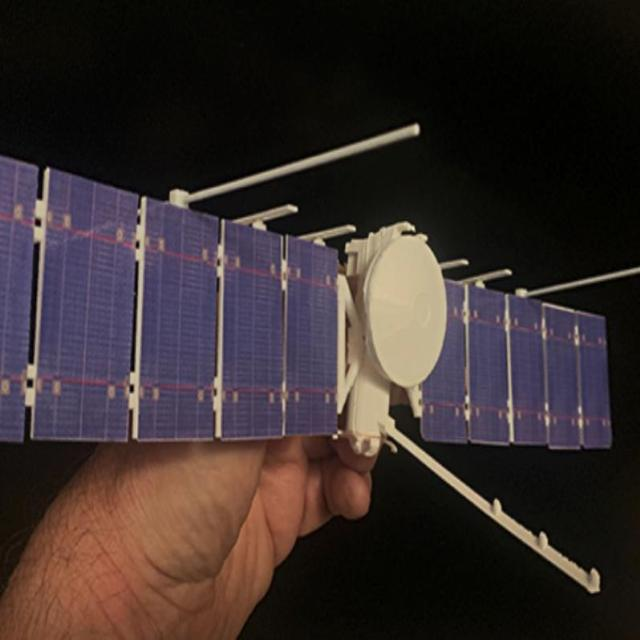Without deffect: (3, 67, 640, 614)
